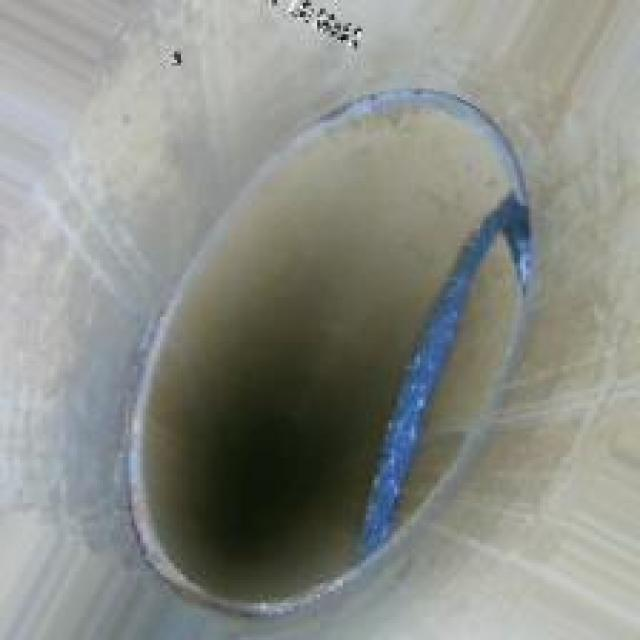joint: (97, 74, 543, 620)
